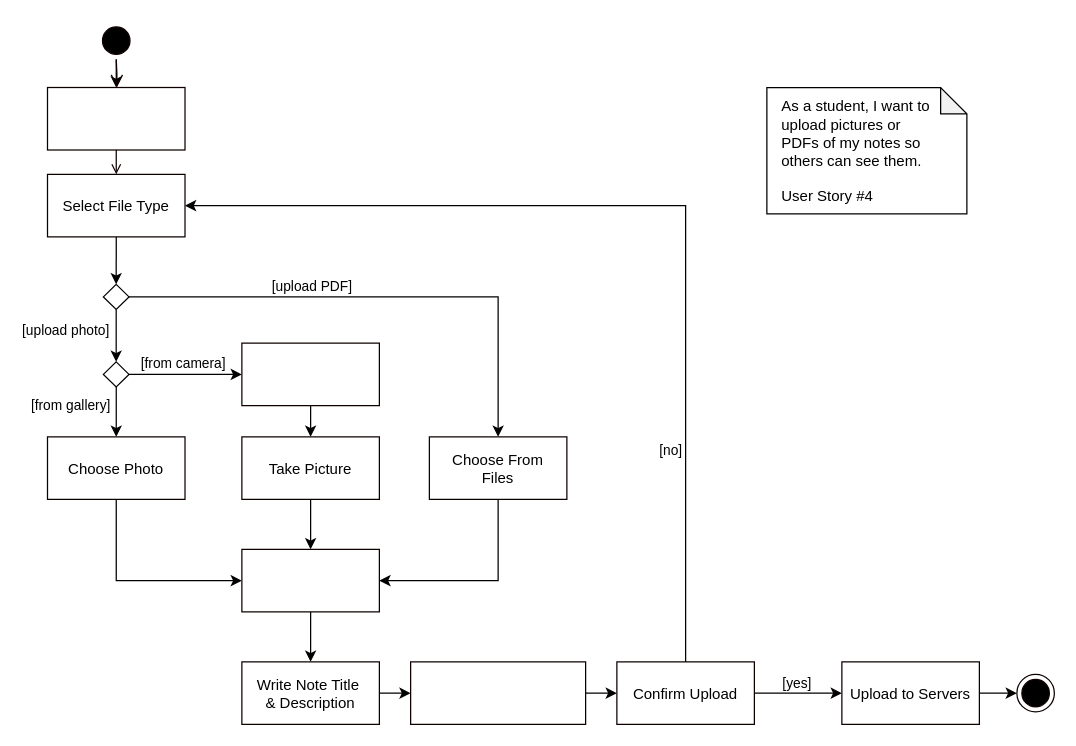
This 1076x746 diagram has some shape labels left out. Here are the shapes that lost their labels. From the top down, the centre of each, then its label:
pixel 115 118: Select "Upload Note" Button
pixel 310 374: Open Camera
pixel 310 580: Check Note Validity
pixel 497 692: Tag Note w/ Course, Professor, School, etc.
